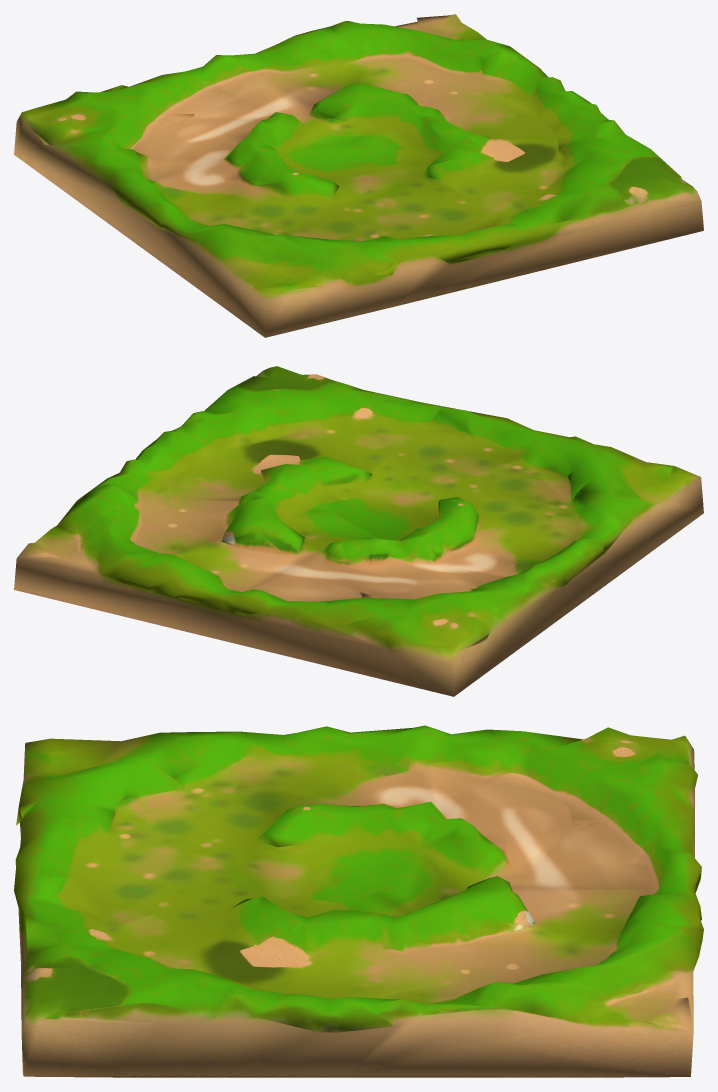
File: town-ground-tile.glb
3 renders of one model, top to bottom at view 1: azimuth 30°, elevation 25°; view 2: azimuth 150°, elevation 25°; view 3: azimuth 270°, elevation 25°, orthographic. The views are drawn at different scales.
Visible parts, largest first — view 1: Mesh_0; view 2: Mesh_0; view 3: Mesh_0.
Boxes of the visible parts, x1,y1,x2,y2 form: Mesh_0: (14,14,703,337); Mesh_0: (14,366,703,696); Mesh_0: (14,725,703,1077).
Bounding box in the file's own units: 7.86 × 1 × 7.94.
1 material, 1 textured.
